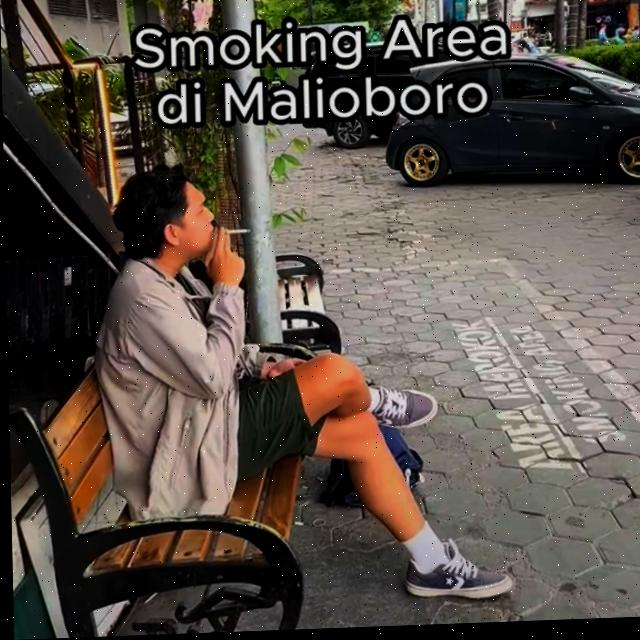cigarette: (225, 230, 250, 236)
